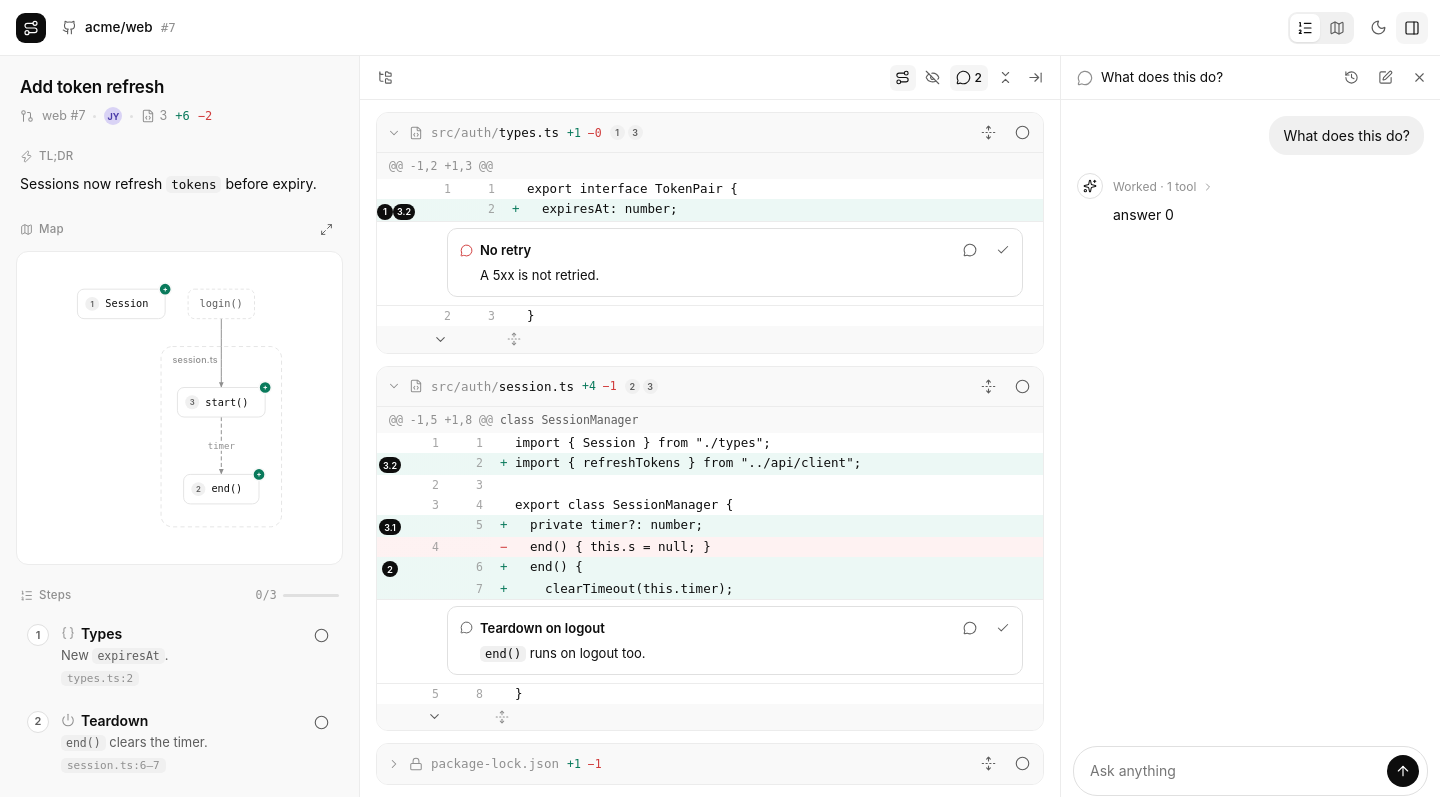
it: new chat starts fresh; history lists and restores past chats
Check: the heading "Add token refresh" is shown, box [20, 77, 164, 97]
Check: the element with class "user" is shown, box [1269, 116, 1424, 155]
Click the button titled "New chat": {"x": 1385, "y": 78} [1372, 64, 1398, 90]
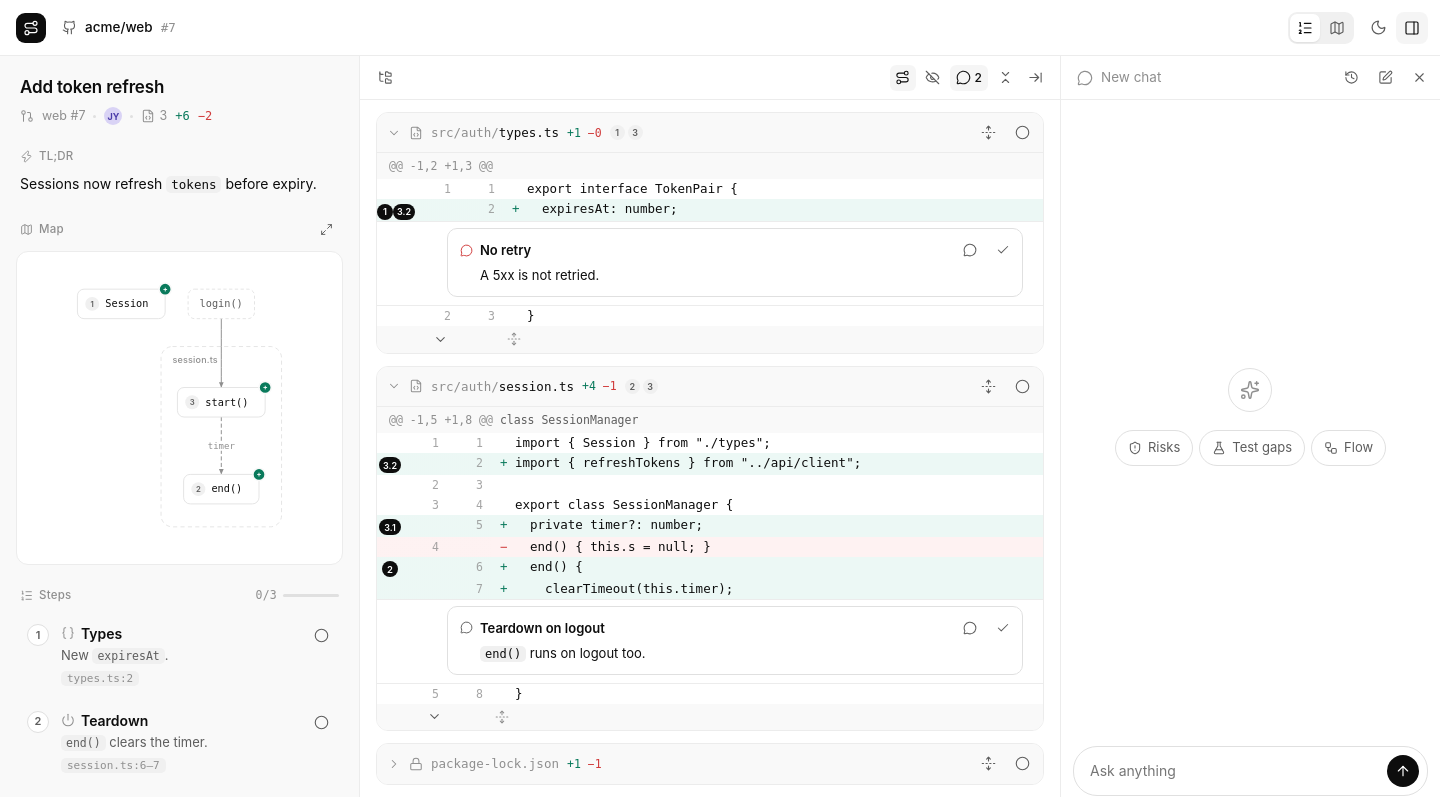
Check: the element with class "empty" is shown, box [1115, 368, 1386, 466]
Click the button titled "History": {"x": 1351, "y": 78} [1338, 64, 1364, 90]
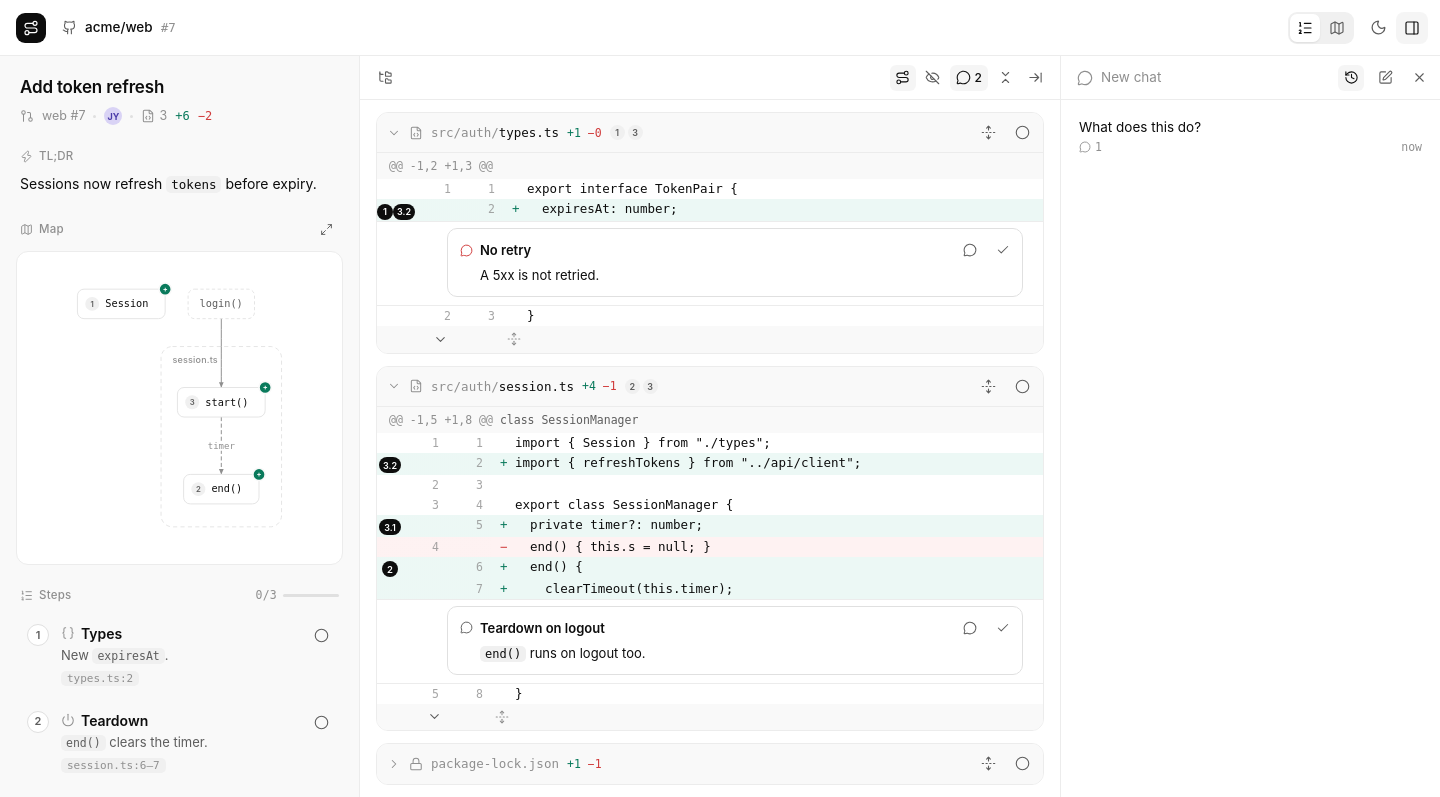
Check: the text "What does this do?" is shown, box [1079, 119, 1201, 135]
Click the element showing "What does this do? 1 now": {"x": 1140, "y": 127} [1069, 108, 1432, 163]
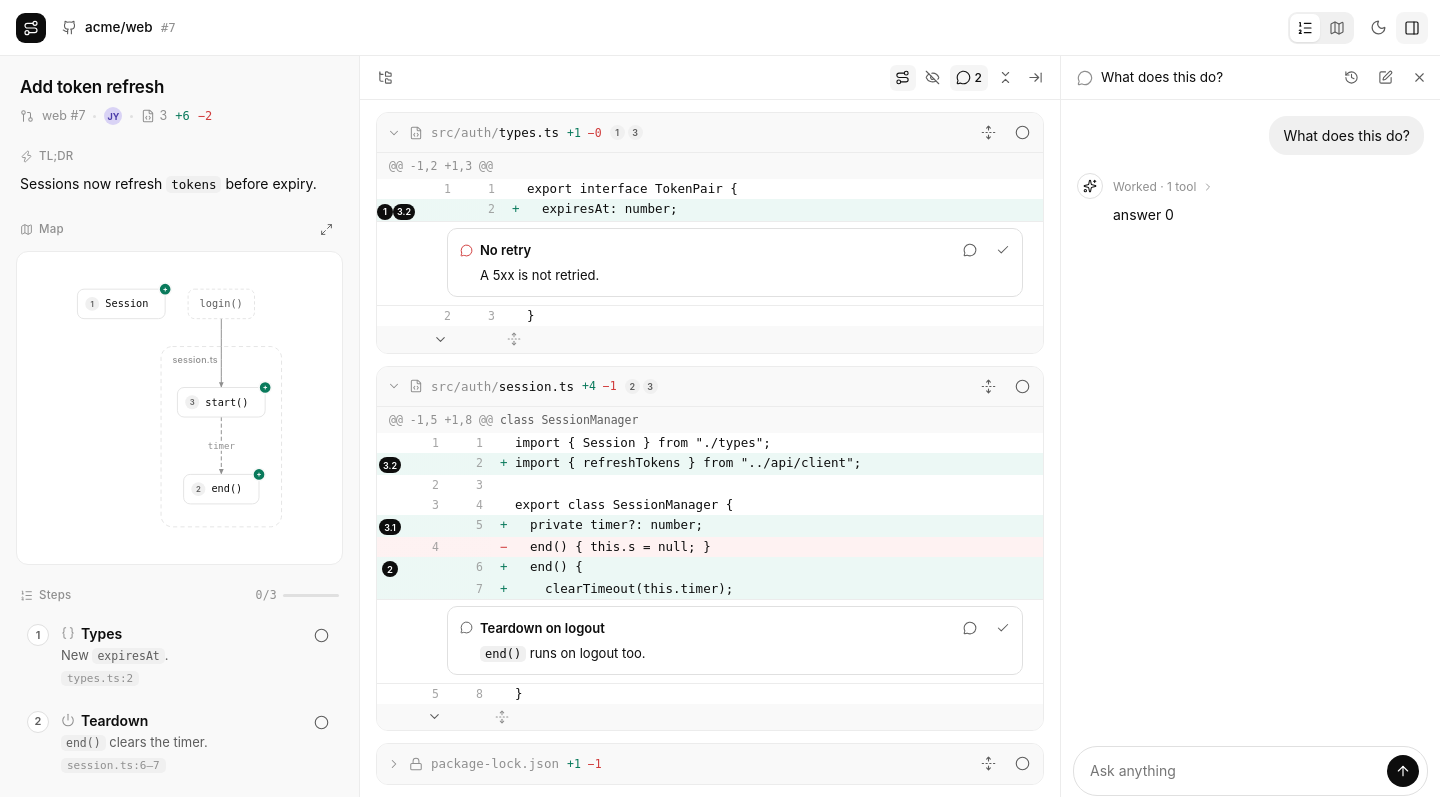
Check: the element with class "ans-t" reads "answer 0", box [1113, 206, 1174, 223]
